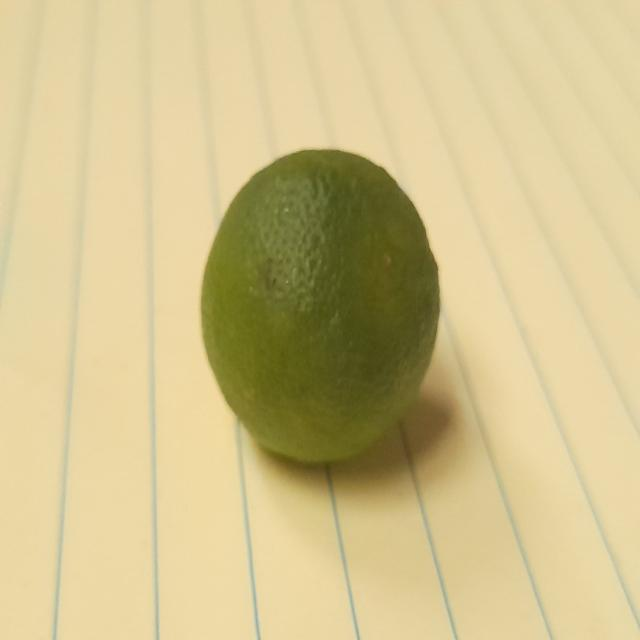heathy: (196, 141, 447, 467)
